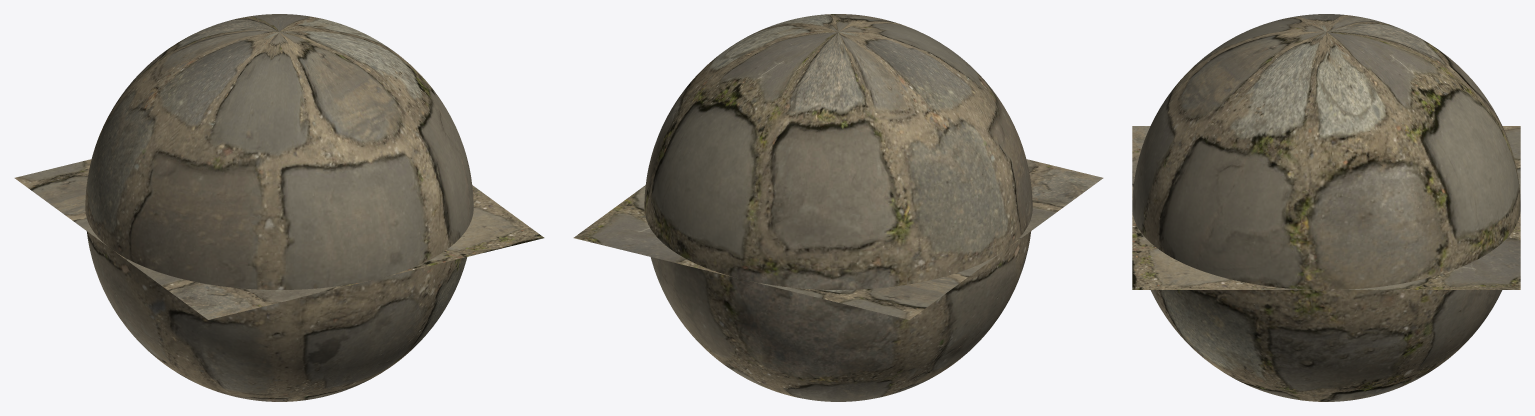
File: cobblestone_floor_05_1k.fbx
3 views of the same model, side by side, from view 1: azimuth 30°, elevation 25°; view 2: azimuth 150°, elevation 25°; view 3: azimuth 270°, elevation 25° (orthographic).
Visible parts, largest first — view 1: Sphere, Plane; view 2: Sphere, Plane; view 3: Sphere, Plane.
Part boxes in pixels (<box>): Sphere: <box>85,14,473,401</box>; Plane: <box>14,159,544,319</box>; Sphere: <box>644,14,1032,401</box>; Plane: <box>573,159,1103,319</box>; Sphere: <box>1132,14,1520,401</box>; Plane: <box>1132,126,1520,289</box>.
Bounding box in the file's own units: 200 × 200 × 200.
